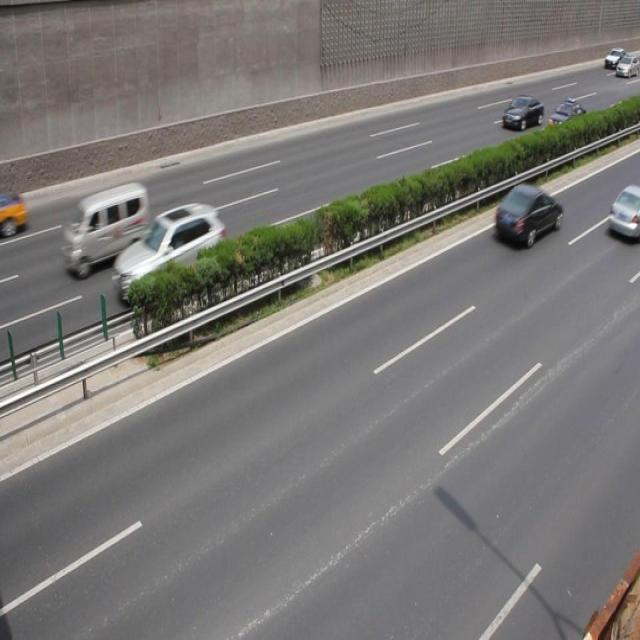car: (113, 200, 226, 310), (493, 183, 560, 246), (605, 183, 640, 237), (501, 93, 542, 129), (547, 97, 587, 133)
truck: (62, 180, 151, 276)
